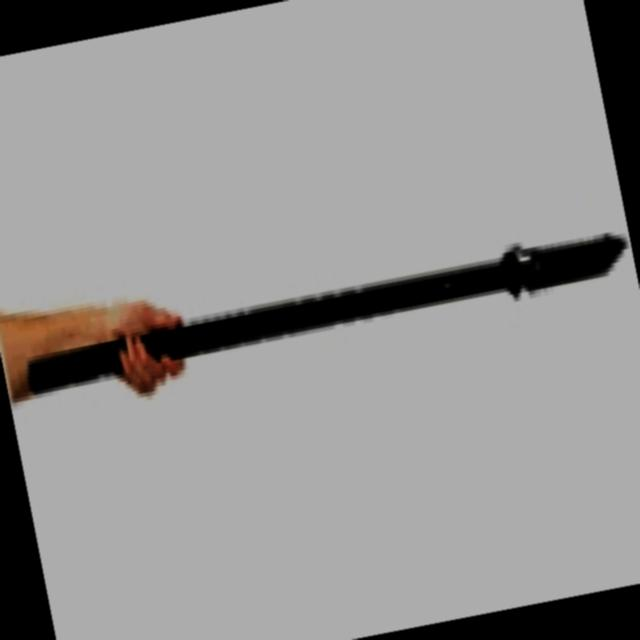spear: (10, 195, 640, 438)
